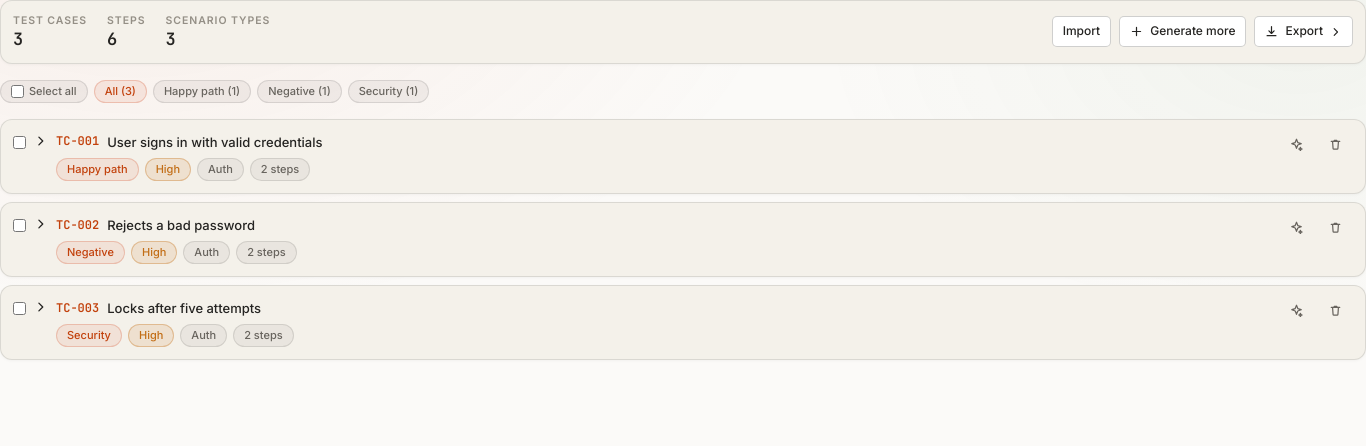
Scenario: TestCasesDisplay selection › deletes only the selected cases and clears the bar
This screenshot has width=1366, height=446.
Click the checkbox named "Select TC-002". click: (20, 225)
box: [13,219,26,232]
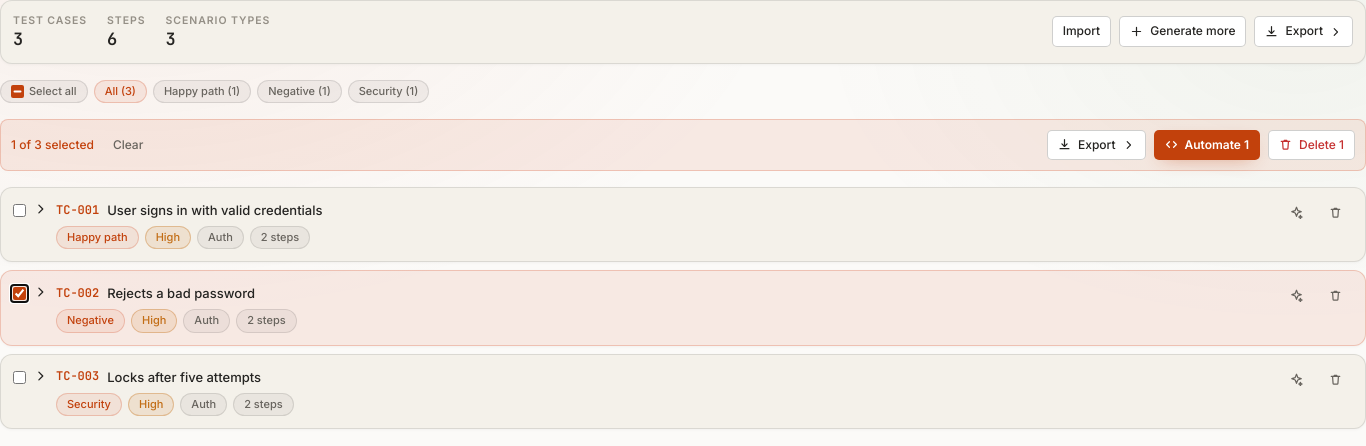
Click the button "Delete 1". click: (1312, 145)
box: [1268,130,1355,160]
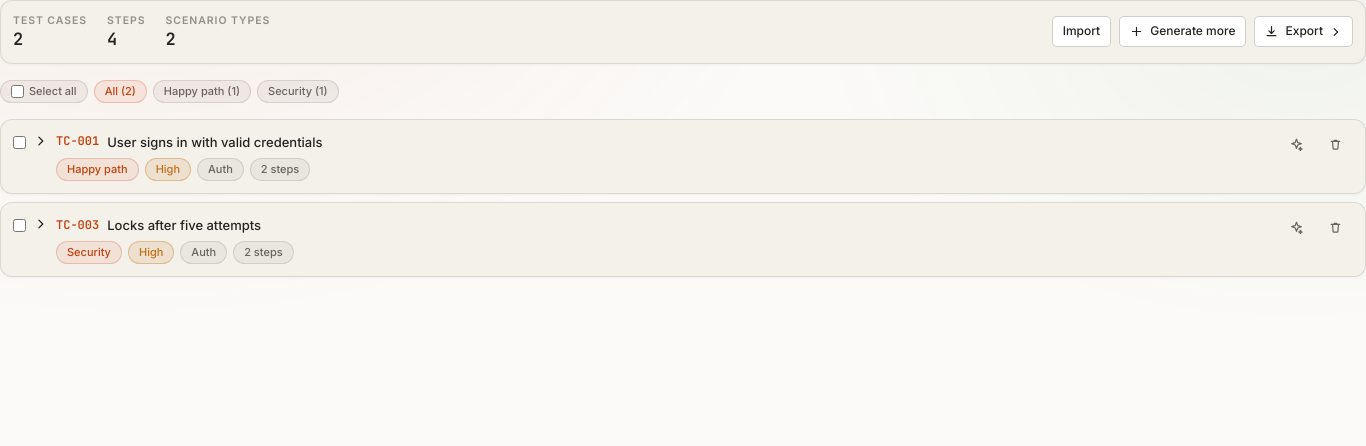
Expected: the button "Delete 1" is gone
